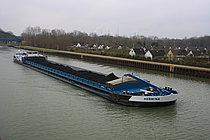Ship: (11, 46, 183, 111)
